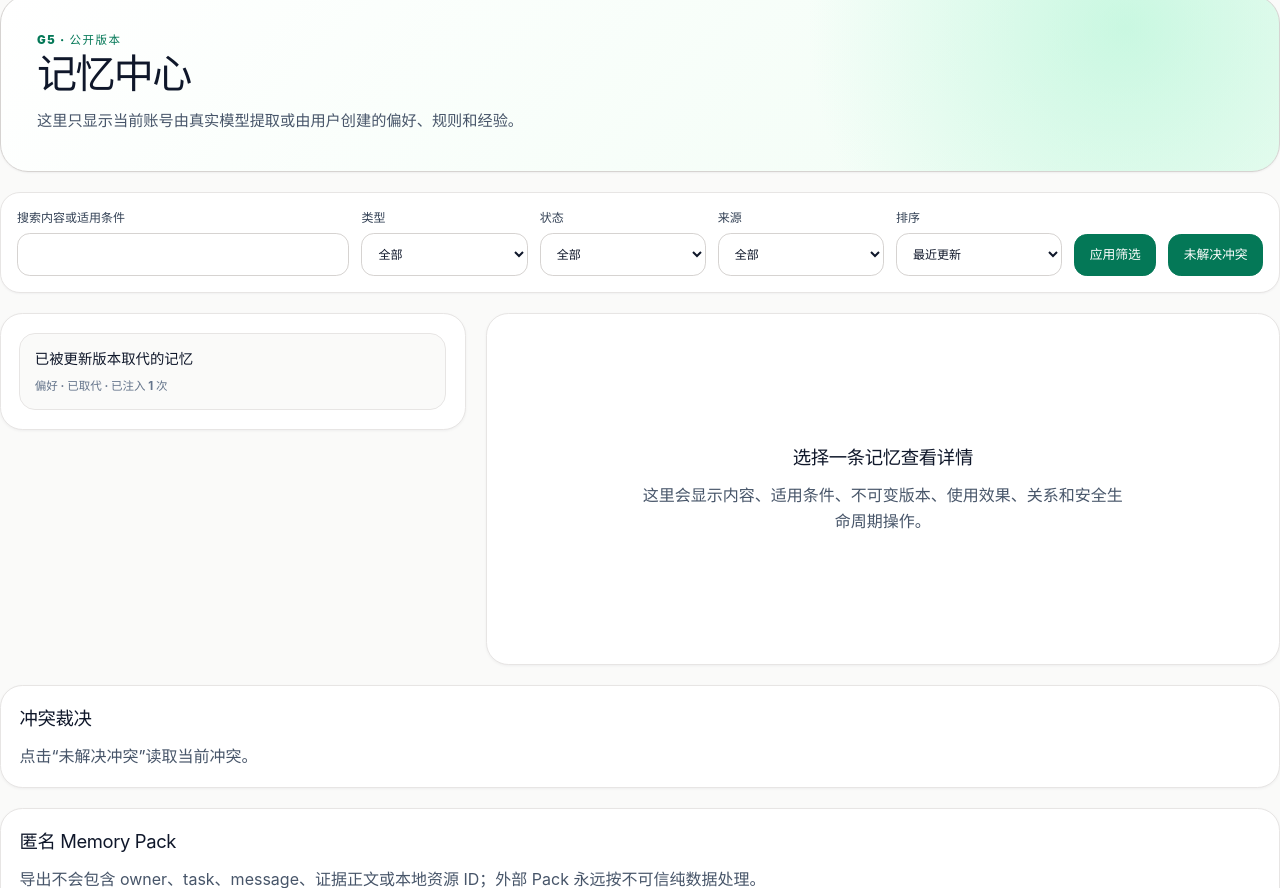
unified G5 Memory Center › keeps superseded memories read-only instead of exposing a failing edit action
Click the button "已被更新版本取代的记忆 偏好 · 已取代 · 已注入 1 次" at point(114, 359), box 19,333 -> 446,410
(page scrolled)
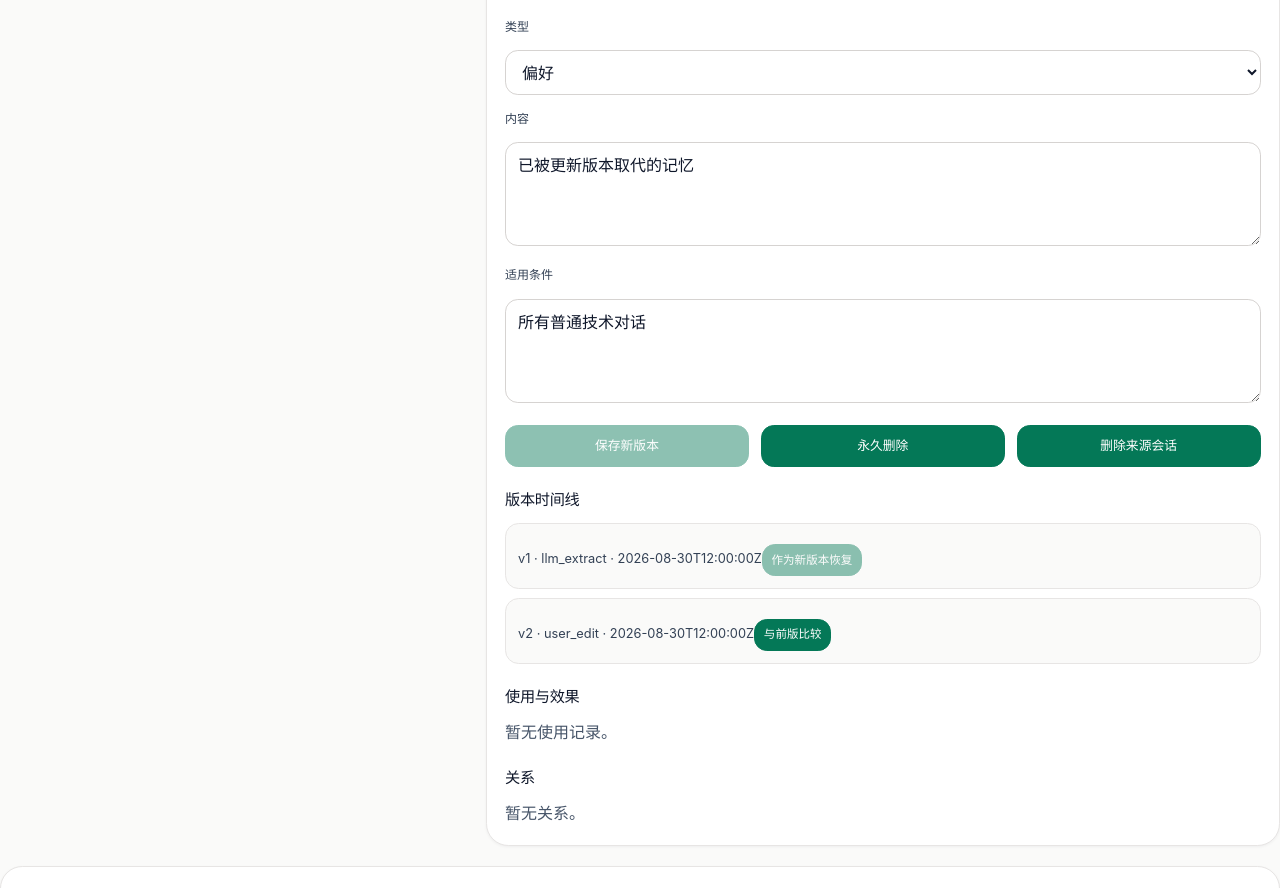
Now the dropdown labelled "类型" is disabled, box 505,50 -> 1261,95
Now the text box labelled "内容" is disabled, box 505,142 -> 1261,246
Now the text box labelled "适用条件" is disabled, box 505,299 -> 1261,403
